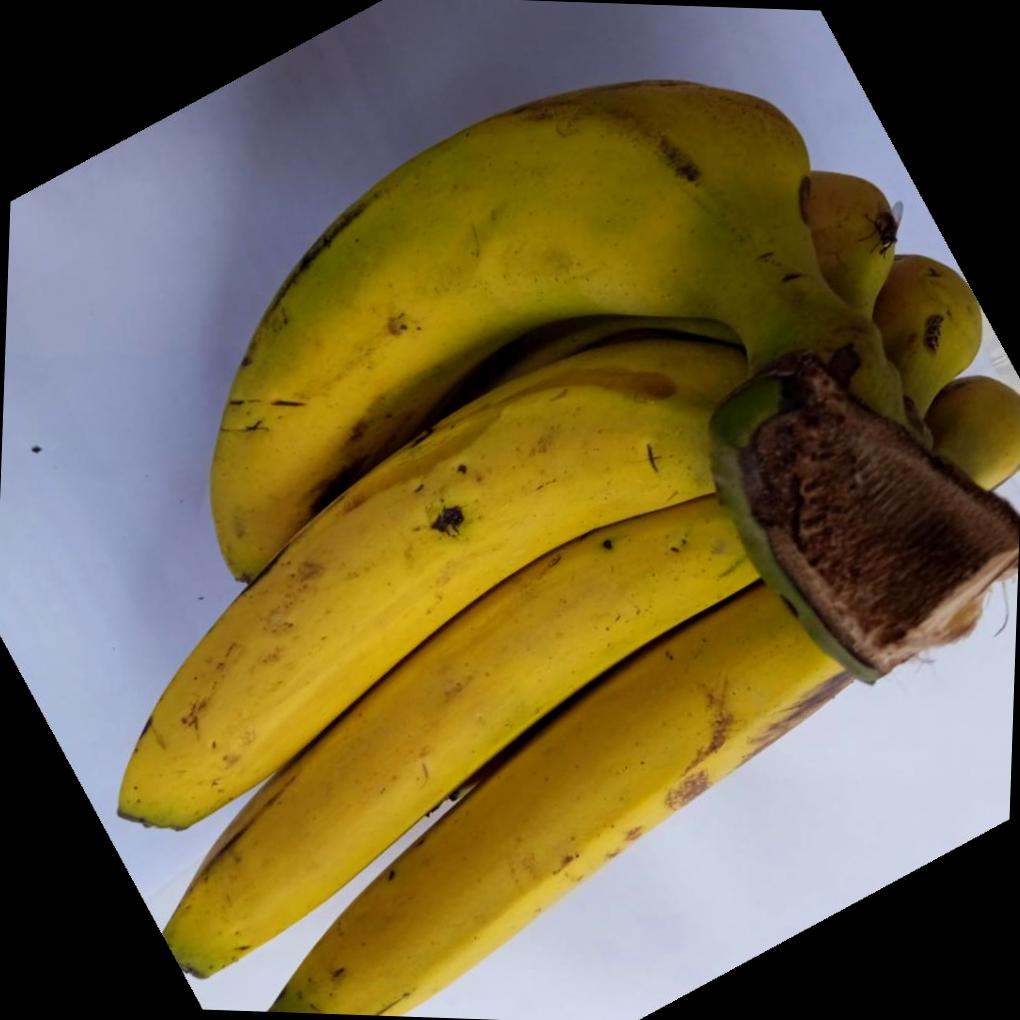Banana Ripe: (71, 40, 1020, 1020), (84, 308, 907, 1020)
